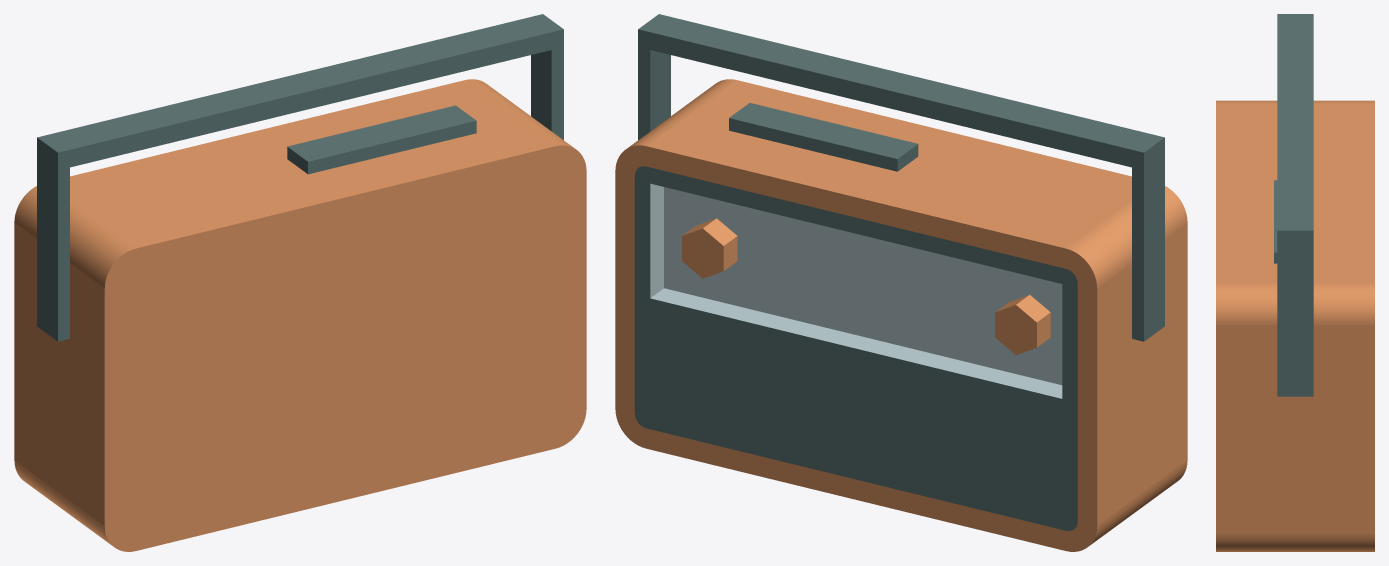
File: radio.dae
3 renders of one model, left to right at view 1: azimuth 30°, elevation 25°; view 2: azimuth 150°, elevation 25°; view 3: azimuth 270°, elevation 25°, orthographic. The views are drawn at different scales.
Parts seen in each view (by area): view 1: radio; view 2: radio; view 3: radio.
Boxes of the visible parts, left/top/right/bottom form: radio: left=14, top=14, right=586, bottom=551; radio: left=615, top=14, right=1187, bottom=551; radio: left=1216, top=14, right=1374, bottom=551.
Bounding box in the file's own units: 0.315 × 0.2282 × 0.0975.
